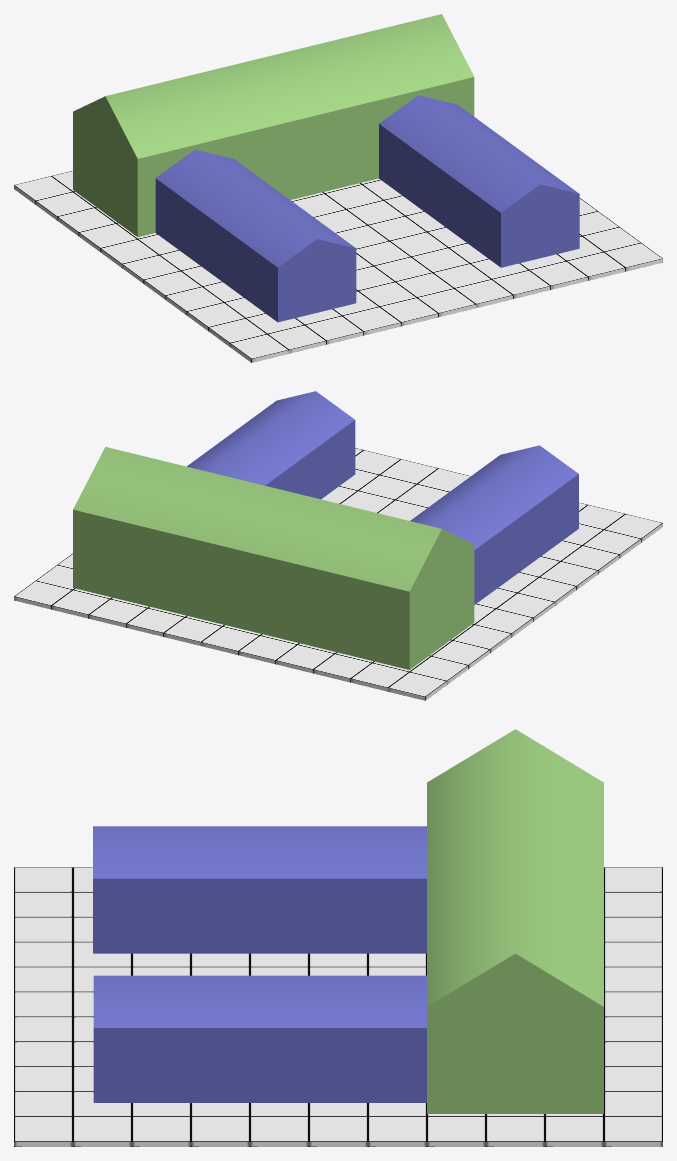
File: XG_Mansion.glb
The picture shows the model from 3 angles, top to bottom: view 1: azimuth 30°, elevation 25°; view 2: azimuth 150°, elevation 25°; view 3: azimuth 270°, elevation 25°; orthographic projection. The views are drawn at different scales.
Visible parts, largest first — view 1: building_9m_3m_006, building_9m_3m_005, building_9m_3m_007, 1m_base_block_2569, 1m_base_block_2570, 1m_base_block_2562, 1m_base_block_2563, 1m_base_block_2565, 1m_base_block_2566, 1m_base_block_2564, 1m_base_block_2567, 1m_base_block_2571 (+30 smaller); view 2: building_9m_3m_006, building_9m_3m_005, building_9m_3m_007, 1m_base_block_2485, 1m_base_block_2481, 1m_base_block_2486, 1m_base_block_2480, 1m_base_block_2550, 1m_base_block_2478, 1m_base_block_2541, 1m_base_block_2482, 1m_base_block_2483 (+21 smaller); view 3: building_9m_3m_006, building_9m_3m_005, building_9m_3m_007, 1m_base_block_2542, 1m_base_block_2543, 1m_base_block_2544, 1m_base_block_2545, 1m_base_block_2546, 1m_base_block_2547, 1m_base_block_2548, 1m_base_block_2549, 1m_base_block_2550 (+35 smaller).
Part boxes in pixels (x1,y1,x2,y2): building_9m_3m_006: (73,14,474,236); building_9m_3m_005: (155,149,356,322); building_9m_3m_007: (379,95,579,267); 1m_base_block_2569: (230,334,288,362); 1m_base_block_2570: (529,261,588,289); 1m_base_block_2562: (454,279,513,307); 1m_base_block_2563: (417,288,475,316); 1m_base_block_2565: (342,307,401,335); 1m_base_block_2566: (305,316,363,344); 1m_base_block_2564: (380,297,438,326); 1m_base_block_2567: (492,270,550,298); 1m_base_block_2571: (567,252,625,280); building_9m_3m_006: (73,447,474,669); building_9m_3m_005: (410,445,578,604); building_9m_3m_007: (187,391,355,499); 1m_base_block_2485: (388,672,446,700); 1m_base_block_2481: (275,644,334,673); 1m_base_block_2486: (88,599,147,627); 1m_base_block_2480: (238,635,296,664); 1m_base_block_2550: (14,580,72,609); 1m_base_block_2478: (163,617,221,645); 1m_base_block_2541: (51,590,109,618); 1m_base_block_2482: (313,654,371,682); 1m_base_block_2483: (126,608,184,636); building_9m_3m_006: (427,729,603,1113); building_9m_3m_005: (93,826,426,953); building_9m_3m_007: (93,975,426,1102); 1m_base_block_2542: (486,1116,544,1146); 1m_base_block_2543: (427,1116,485,1146); 1m_base_block_2544: (368,1116,426,1146); 1m_base_block_2545: (309,1116,367,1146); 1m_base_block_2546: (250,1116,308,1146); 1m_base_block_2547: (545,1116,603,1146); 1m_base_block_2548: (191,1116,249,1146); 1m_base_block_2549: (132,1116,190,1146); 1m_base_block_2550: (604,1116,662,1146).
Size of the model in its own units: 11 by 3.15 by 11.
Materials: 3 (1 with a texture image).
